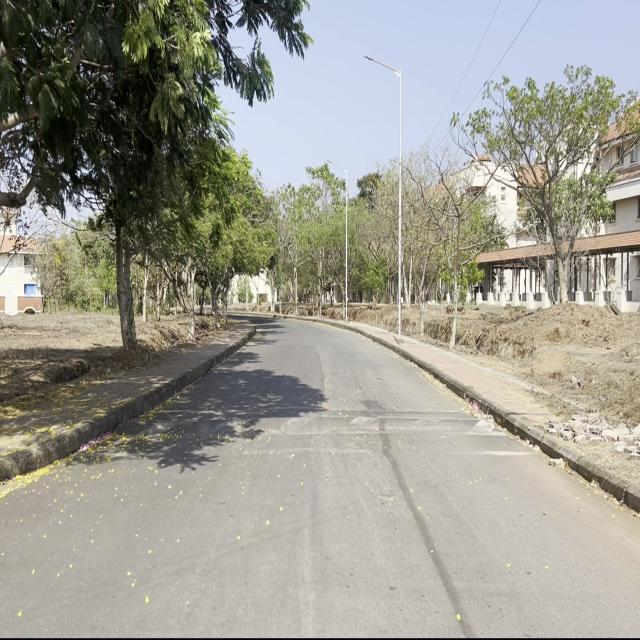Road: (4, 319, 636, 633)
